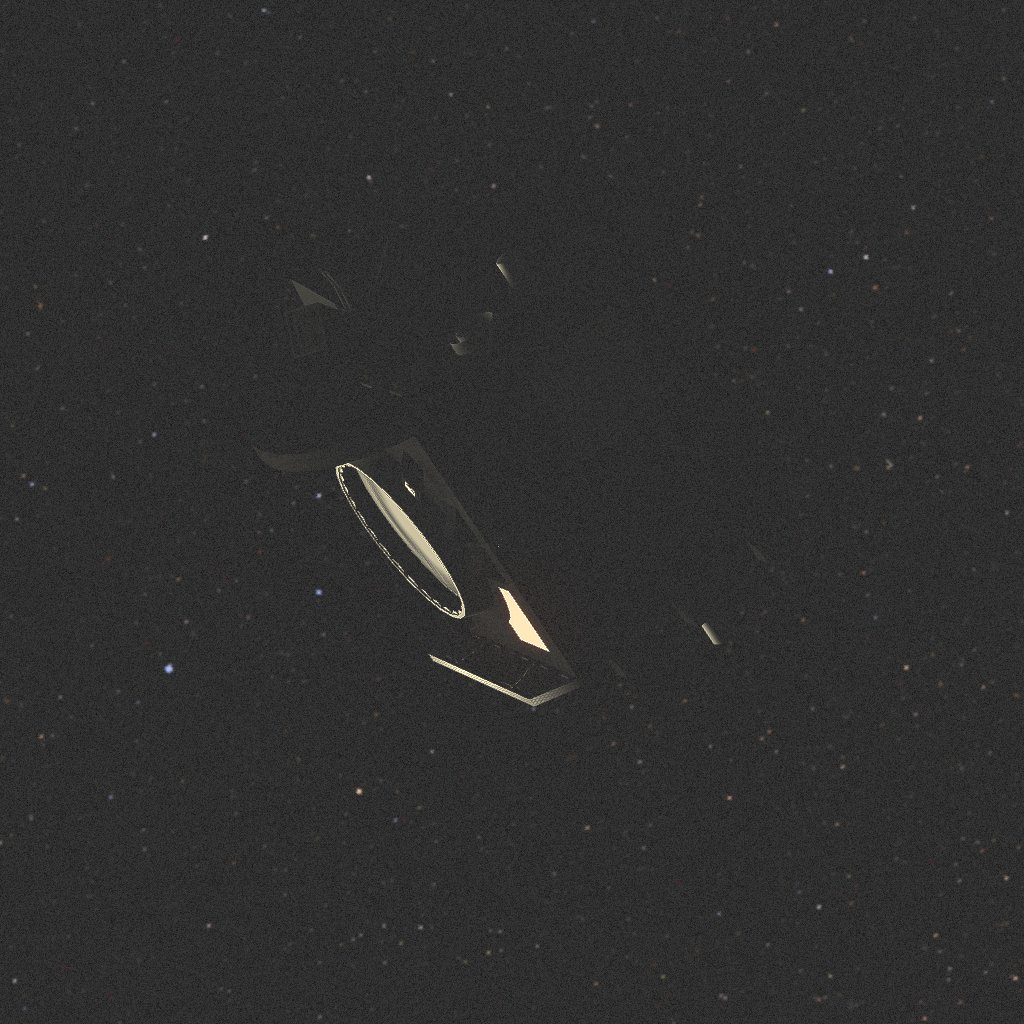proba_3_ocs: (245, 174, 811, 706)
